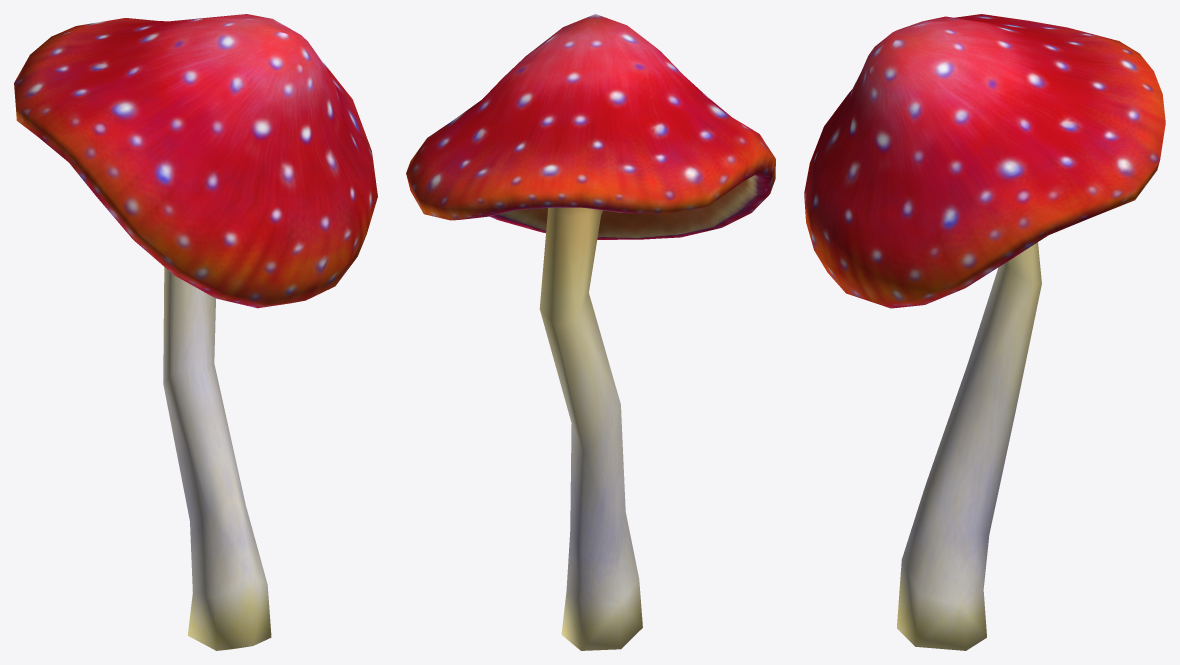
Rendered from TallRed_DEFAULT.dae.
3 renders of one model, left to right at view 1: azimuth 30°, elevation 25°; view 2: azimuth 150°, elevation 25°; view 3: azimuth 270°, elevation 25°, orthographic. The views are drawn at different scales.
Visible parts, largest first — view 1: mesh0; view 2: mesh0; view 3: mesh0.
Boxes of the visible parts, x1,y1,x2,y2 form: mesh0: (14,14,377,650); mesh0: (406,14,775,650); mesh0: (804,14,1165,650).
Size of the model in its own units: 1.63 by 3.03 by 1.6.
